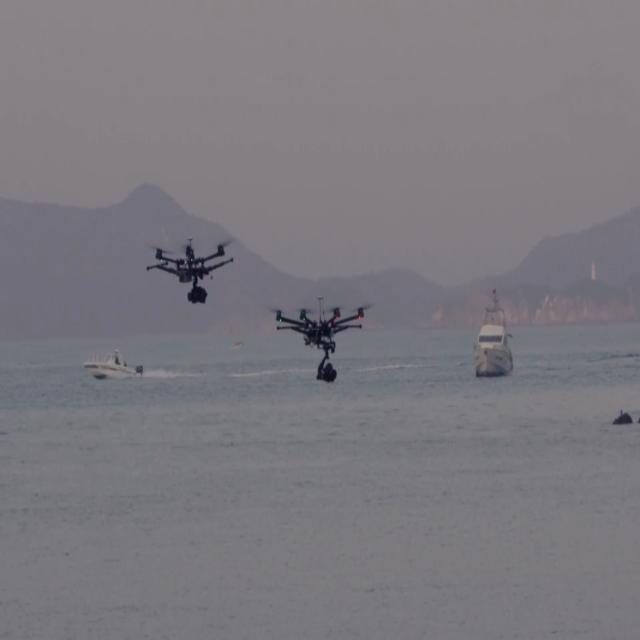drone: (268, 289, 370, 396), (144, 220, 235, 318)
